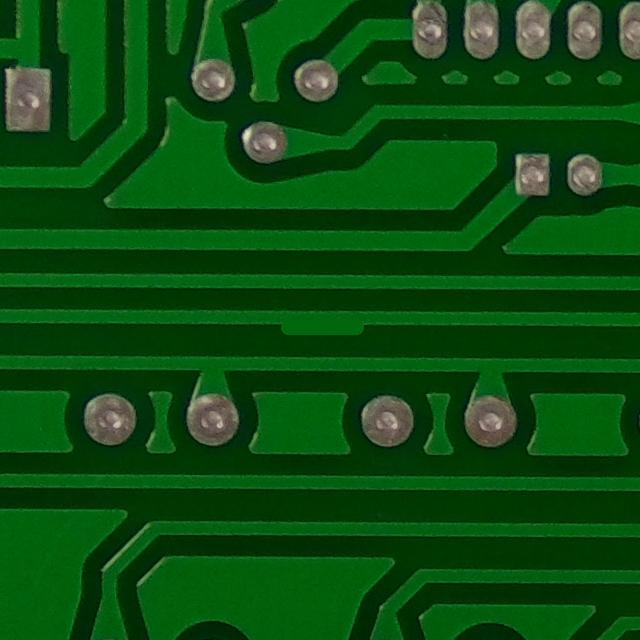spur: (260, 294, 380, 347)
